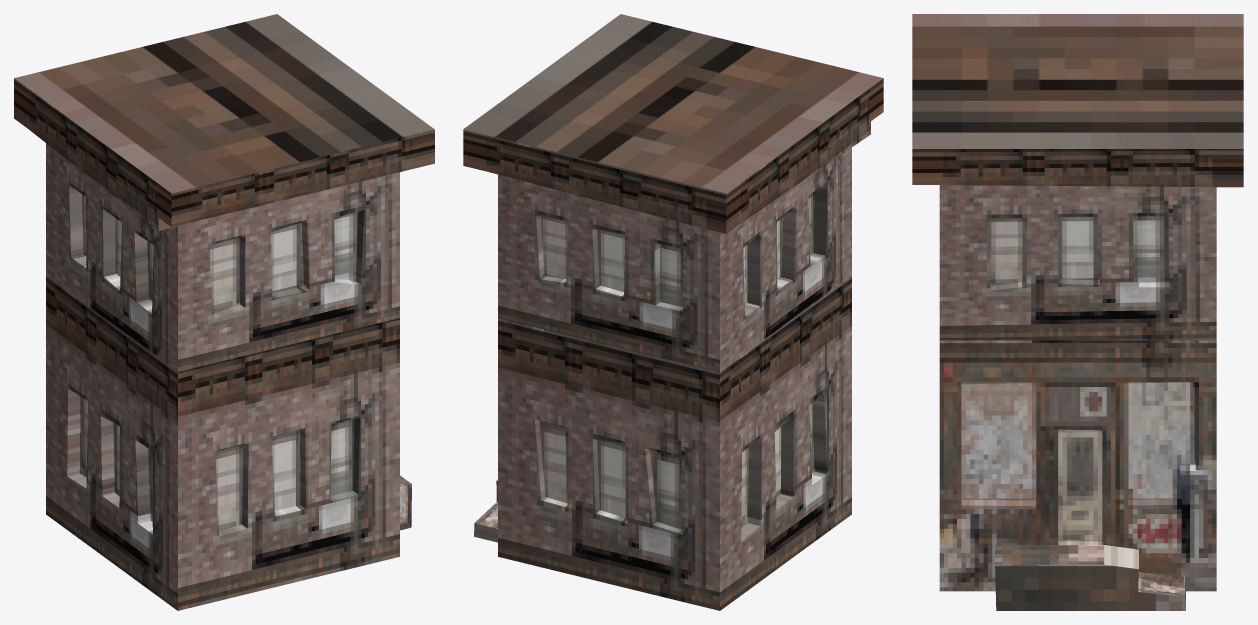
Rendered from House4.fbx.
3 renders of one model, left to right at view 1: azimuth 30°, elevation 25°; view 2: azimuth 150°, elevation 25°; view 3: azimuth 270°, elevation 25°, orthographic. The views are drawn at different scales.
Parts seen in each view (by area): view 1: Cube; view 2: Cube; view 3: Cube.
Boxes of the visible parts, x1,y1,x2,y2 form: Cube: (14,14,434,610); Cube: (463,14,883,610); Cube: (912,14,1243,610).
Bounding box in the file's own units: 1009 × 1488 × 985.
1 material, 1 textured.
